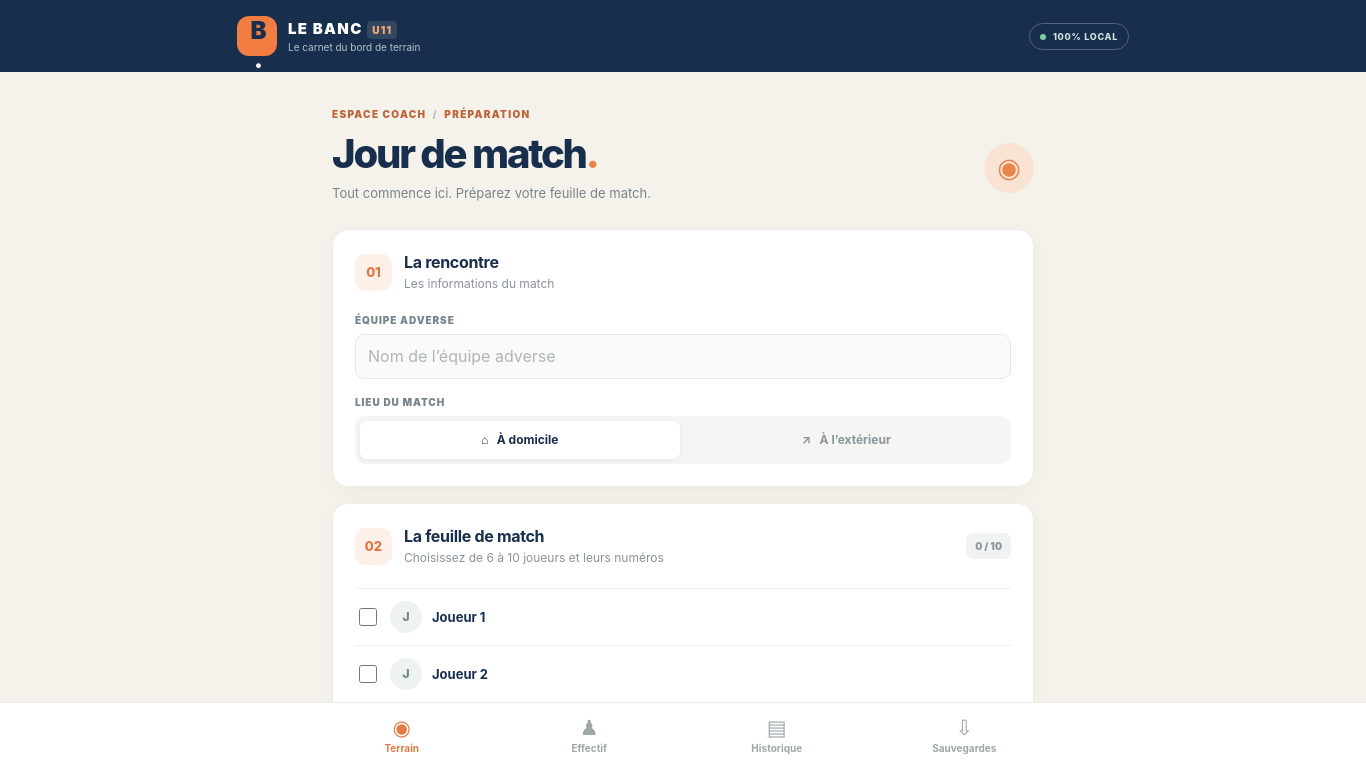
coach workflow › automatic file backup › does not initialize an empty file without confirmation or accept an invalid file
Check: the heading "Jour de match." is shown, box [332,129,598,178]
Click the button "⇩ Sauvegardes". click: (964, 736)
box: [870,703,1058,767]
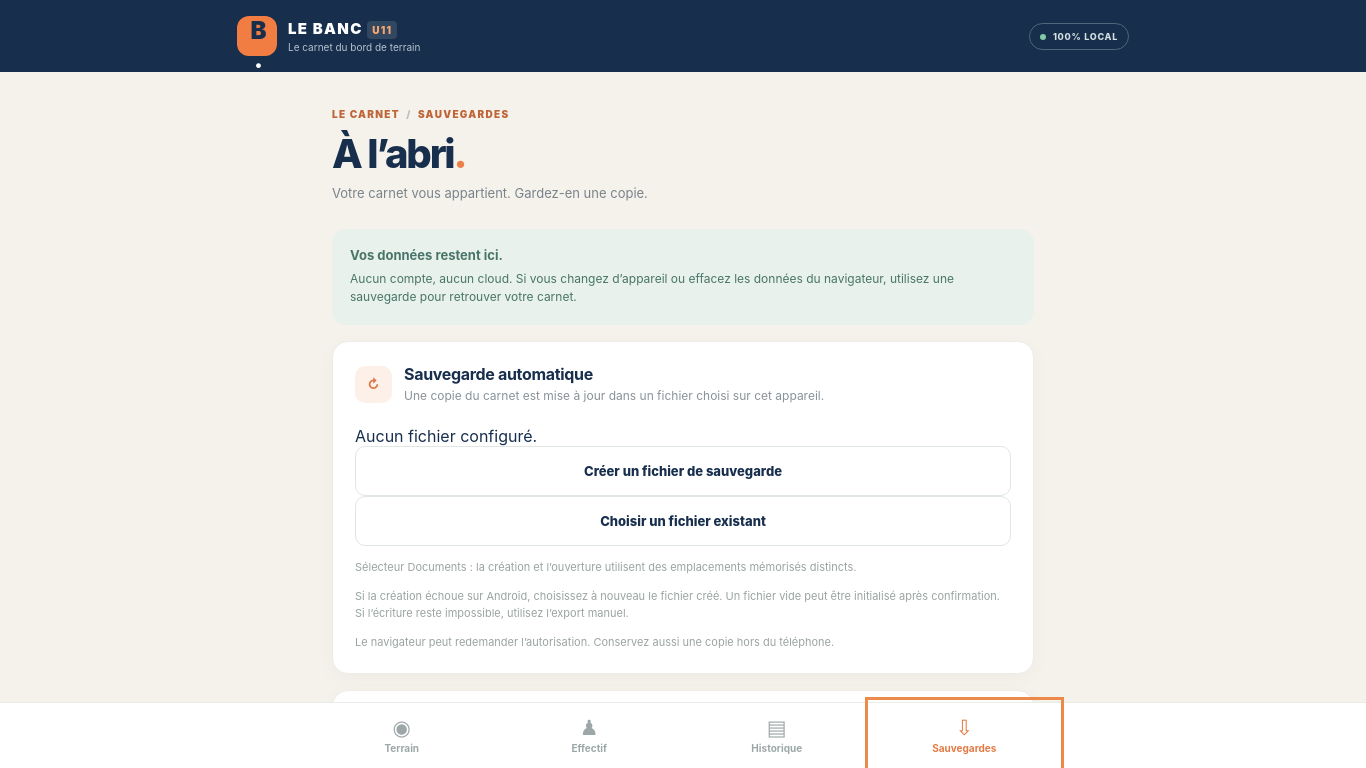
Click the button "Choisir un fichier existant". click: (683, 521)
box: [355,496,1011,546]
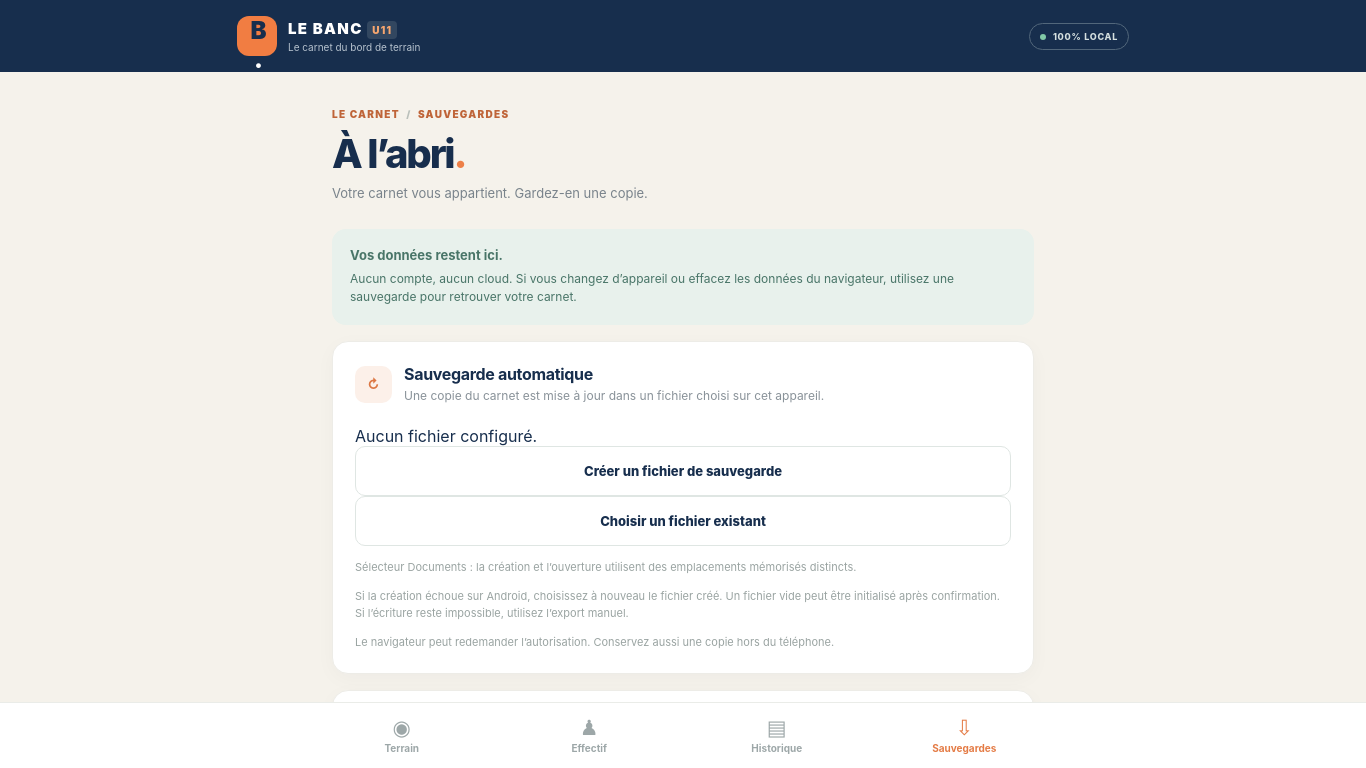
Click the button "Choisir un fichier existant". click: (683, 521)
box: [355,496,1011,546]
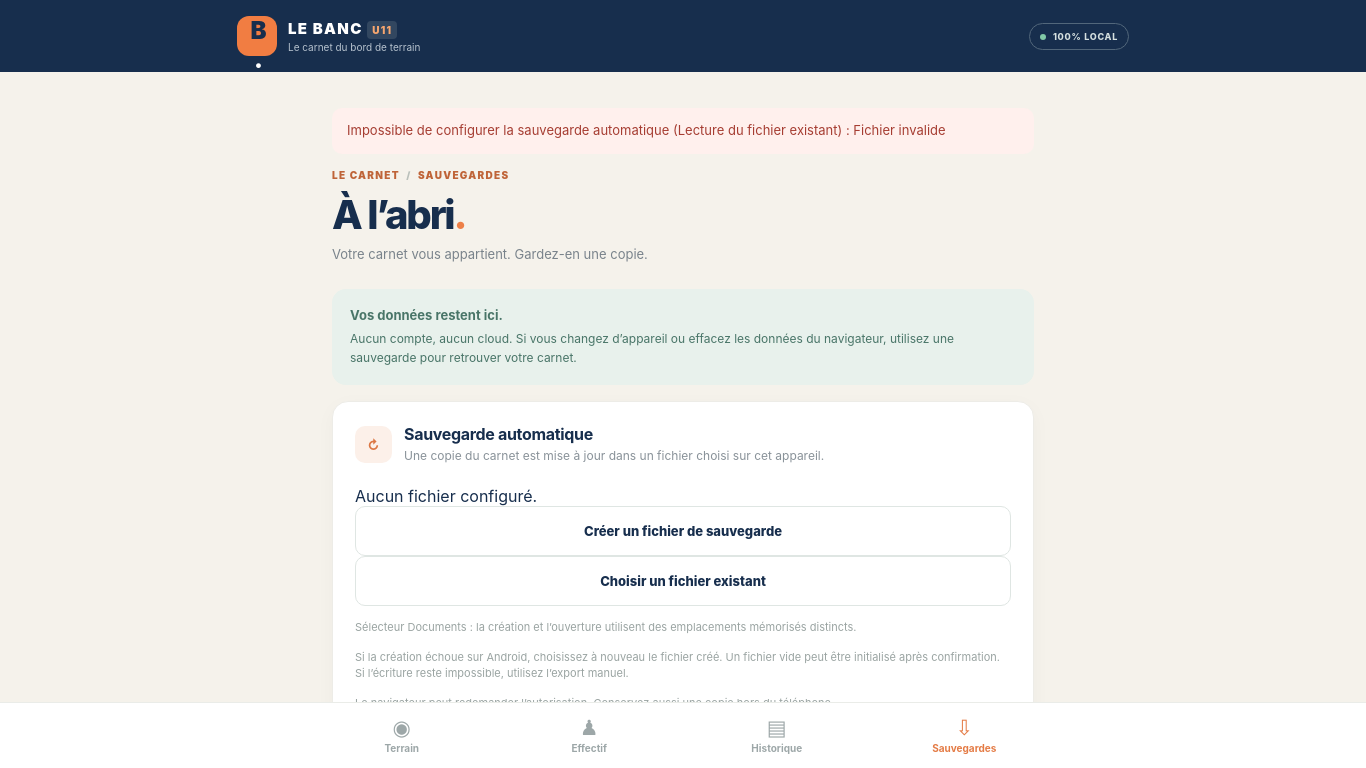
Check: the message shows "Fichier invalide", box [347,122,946,138]
